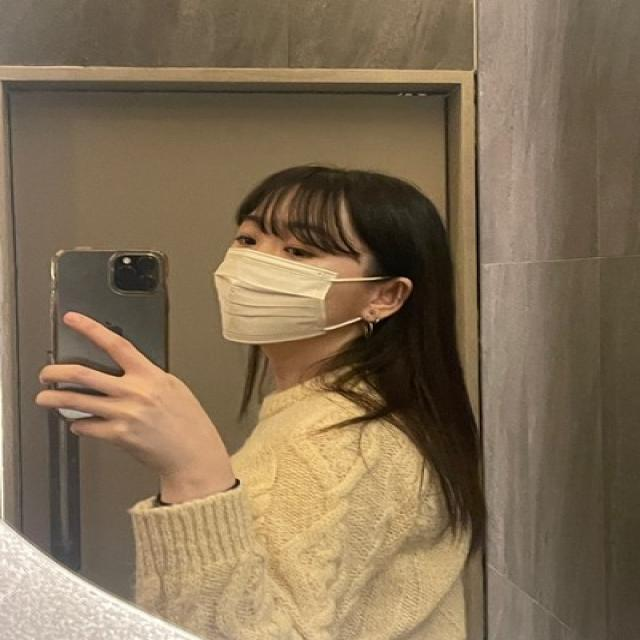phone: (50, 248, 169, 422)
